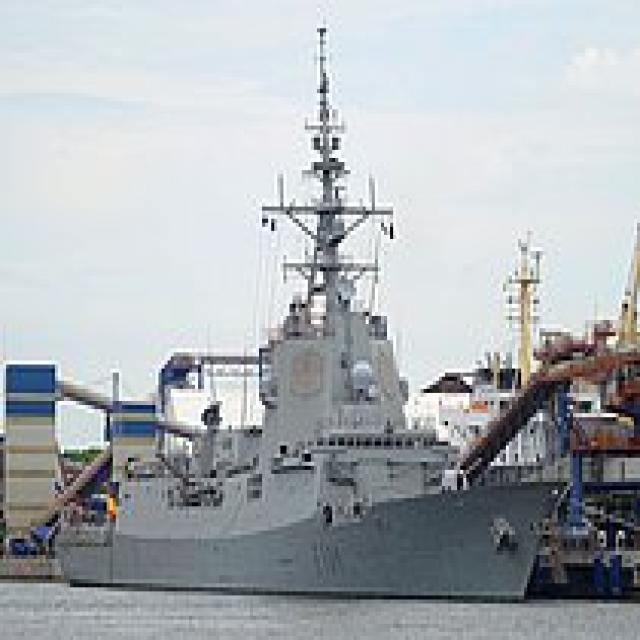Warship: (49, 20, 542, 604)
